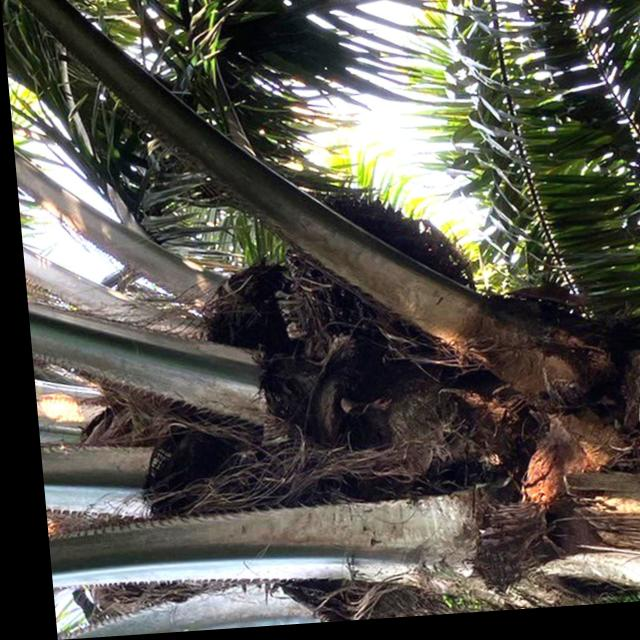ripe: (254, 170, 477, 387)
